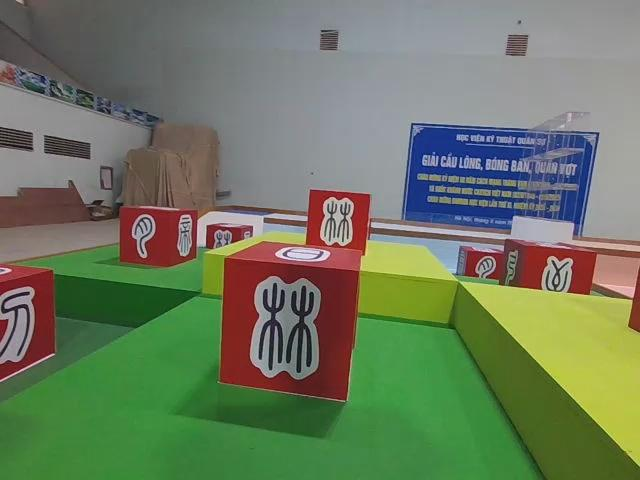R2 Fake: (215, 237, 362, 405), (498, 235, 601, 307), (0, 264, 58, 391), (298, 184, 372, 263), (116, 202, 197, 267), (455, 244, 511, 287)
